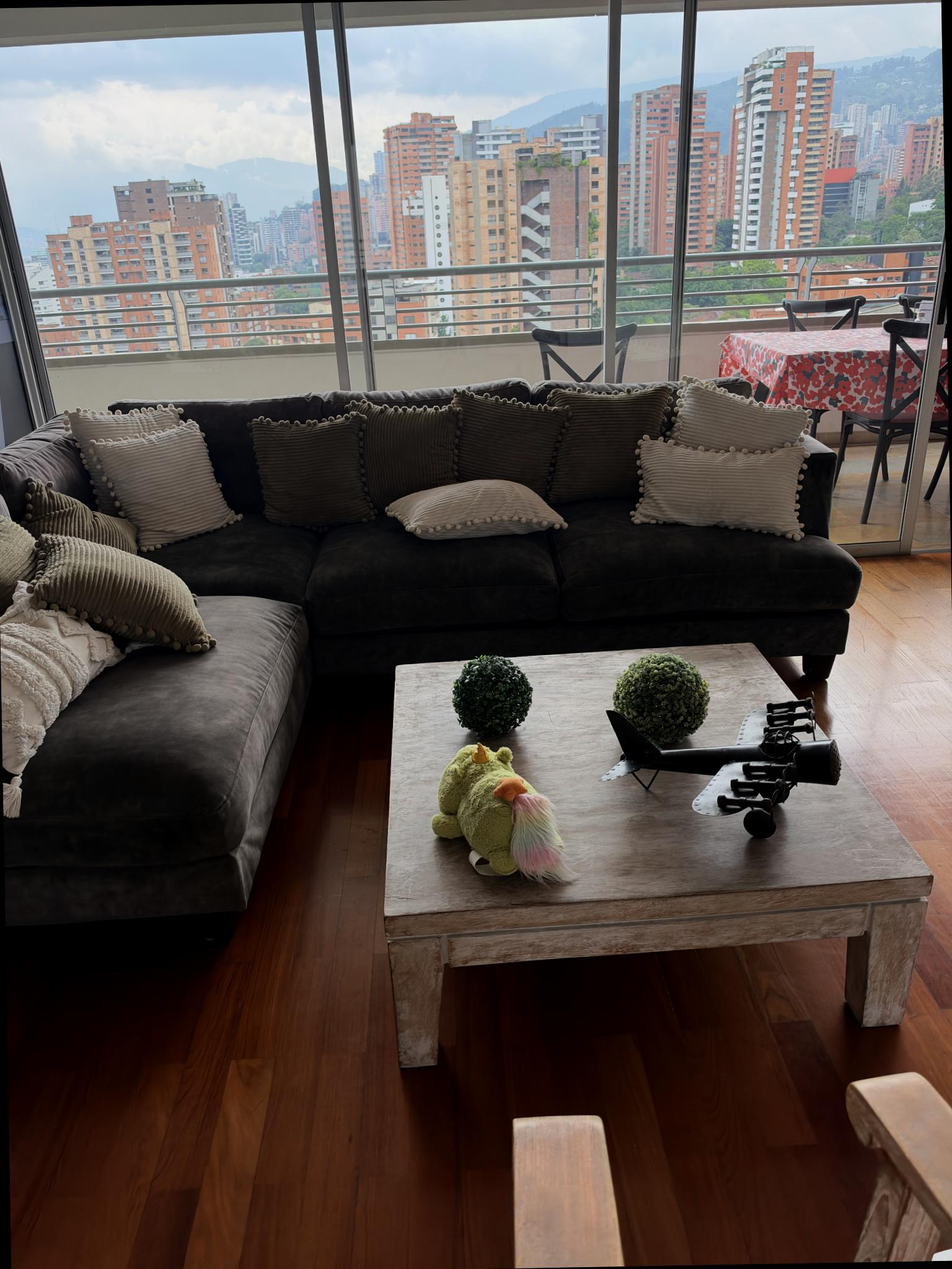peluche_martin: (428, 741, 581, 892)
